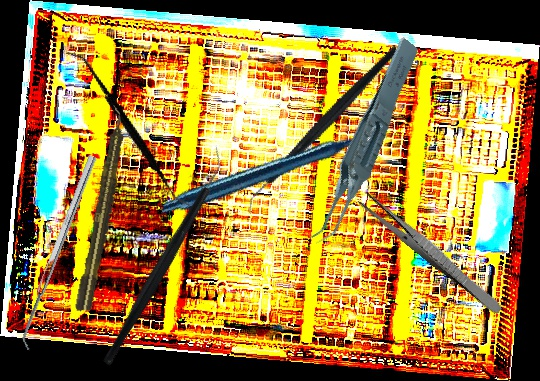Chopper: (44, 145, 281, 367), (211, 44, 435, 218)
Dressing Forceps: (355, 189, 507, 317)
Handpiece: (160, 77, 389, 271), (73, 105, 132, 315)
Spatula Surgical: (29, 50, 228, 208), (15, 154, 105, 352)
Tissue Forceps: (267, 35, 457, 249)
